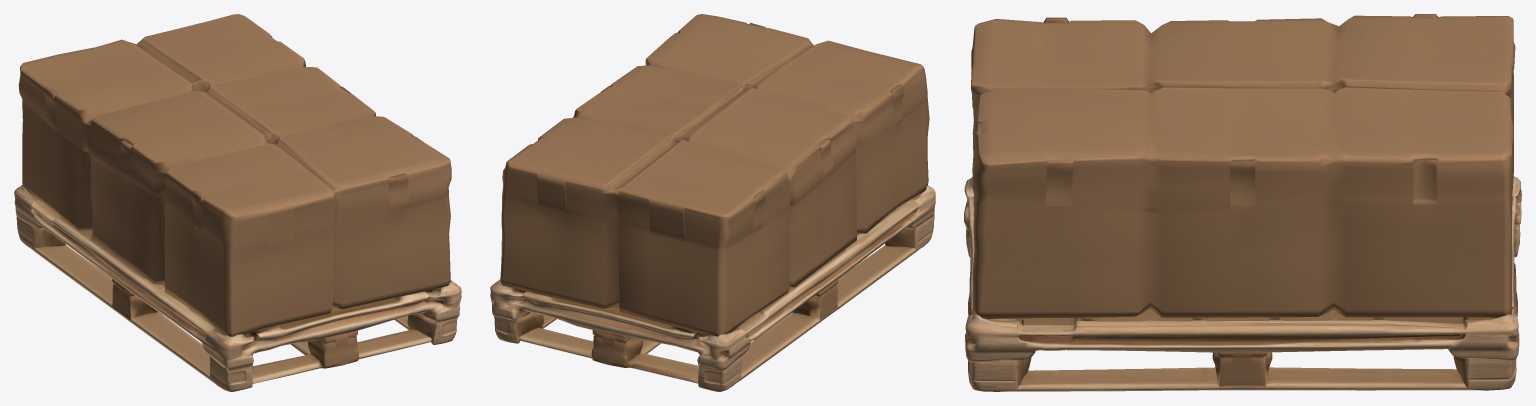
The model's file is paleta-kutije-puna.glb.
3 views of the same model, side by side, from view 1: azimuth 30°, elevation 25°; view 2: azimuth 150°, elevation 25°; view 3: azimuth 270°, elevation 25° (orthographic). The views are drawn at different scales.
Visible parts, largest first — view 1: tripo_node_9e5160d7-65d5-4c2e-ad00-8c2da1ca839b; view 2: tripo_node_9e5160d7-65d5-4c2e-ad00-8c2da1ca839b; view 3: tripo_node_9e5160d7-65d5-4c2e-ad00-8c2da1ca839b.
Boxes of the visible parts, x1=… form: tripo_node_9e5160d7-65d5-4c2e-ad00-8c2da1ca839b: x1=14, y1=14, x2=461, y2=391; tripo_node_9e5160d7-65d5-4c2e-ad00-8c2da1ca839b: x1=490, y1=14, x2=935, y2=391; tripo_node_9e5160d7-65d5-4c2e-ad00-8c2da1ca839b: x1=964, y1=14, x2=1521, y2=391.
Bounding box in the file's own units: 0.6509 × 0.4653 × 0.9985.
1 material, 1 textured.
